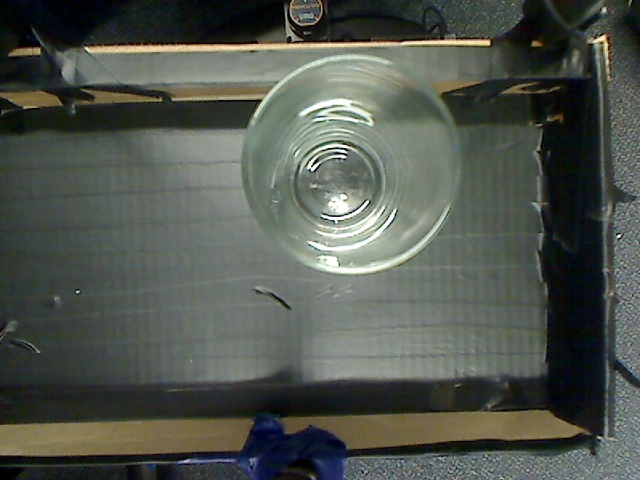cup: (226, 49, 473, 288)
